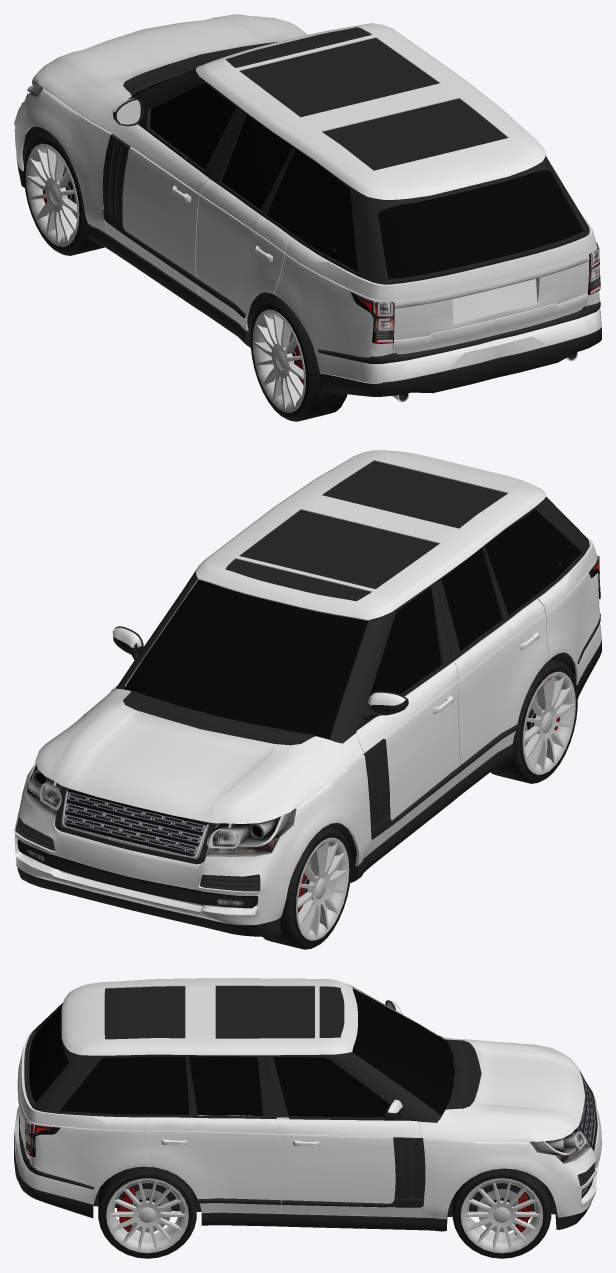
Rendered from Range Rover Autobiography.fbx.
3 views of the same model, one above another, from view 1: azimuth 30°, elevation 25°; view 2: azimuth 150°, elevation 25°; view 3: azimuth 270°, elevation 25° (orthographic). The views are drawn at different scales.
Parts seen in each view (by area): view 1: Paint, Add, Windshield, wheel.002, wheel.003, Rearlights, Chassis; view 2: Paint, Add, Windshield, Add.004, wheel.003, wheel.002, Headlights; view 3: Paint, Add, Windshield, wheel.001, wheel.000, Headlights, Chassis, Add.004, Rearlights.
Boxes of the visible parts, x1,y1,x2,y2 form: Paint: (14, 14, 601, 383); Add: (17, 27, 601, 402); Windshield: (130, 77, 582, 279); wheel.002: (250, 296, 347, 421); wheel.003: (24, 131, 104, 255); Rearlights: (350, 242, 600, 343); Chassis: (22, 126, 371, 356); Paint: (14, 450, 601, 924); Add: (15, 461, 601, 936); Windshield: (123, 509, 581, 739); Add.004: (17, 788, 258, 908); wheel.003: (262, 825, 351, 949); wheel.002: (490, 659, 577, 783); Headlights: (24, 765, 296, 856); Paint: (14, 978, 601, 1218); Add: (14, 985, 597, 1231); Windshield: (29, 988, 455, 1117); wheel.001: (98, 1166, 196, 1258); wheel.000: (452, 1168, 551, 1258); Headlights: (530, 1127, 591, 1163); Chassis: (93, 1183, 556, 1216); Add.004: (579, 1076, 595, 1198); Rearlights: (25, 1119, 60, 1156).
Bounding box in the file's own units: 407 × 336 × 903.
